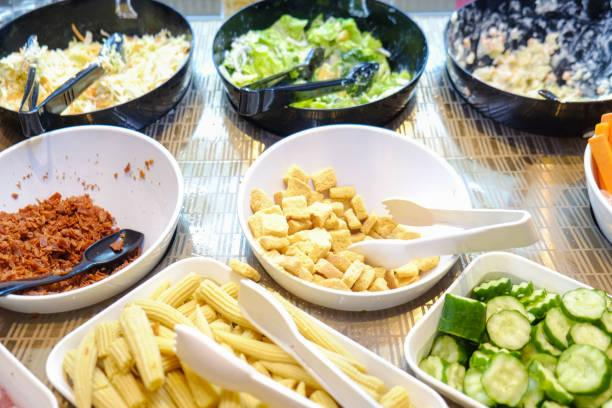Braised Crucian Carp: (236, 124, 472, 309), (214, 1, 425, 134), (2, 0, 193, 132)
